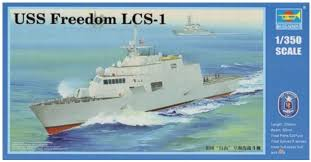tau_muctieu: (37, 37, 241, 124)
